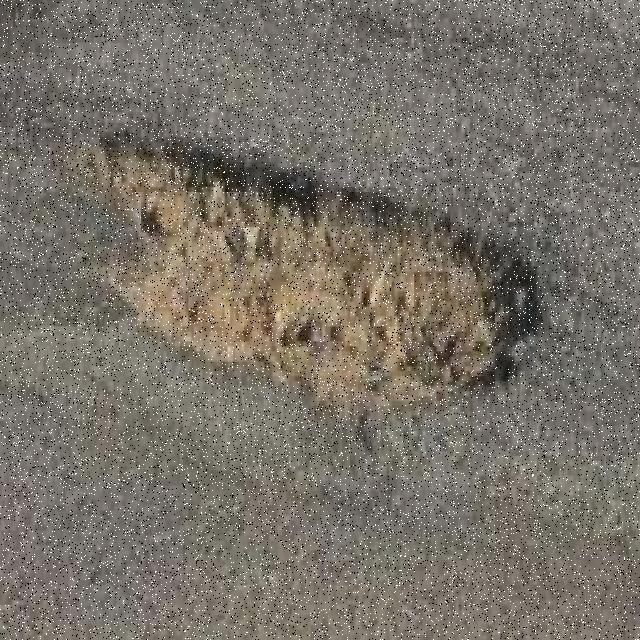pothole: (60, 122, 551, 421)
